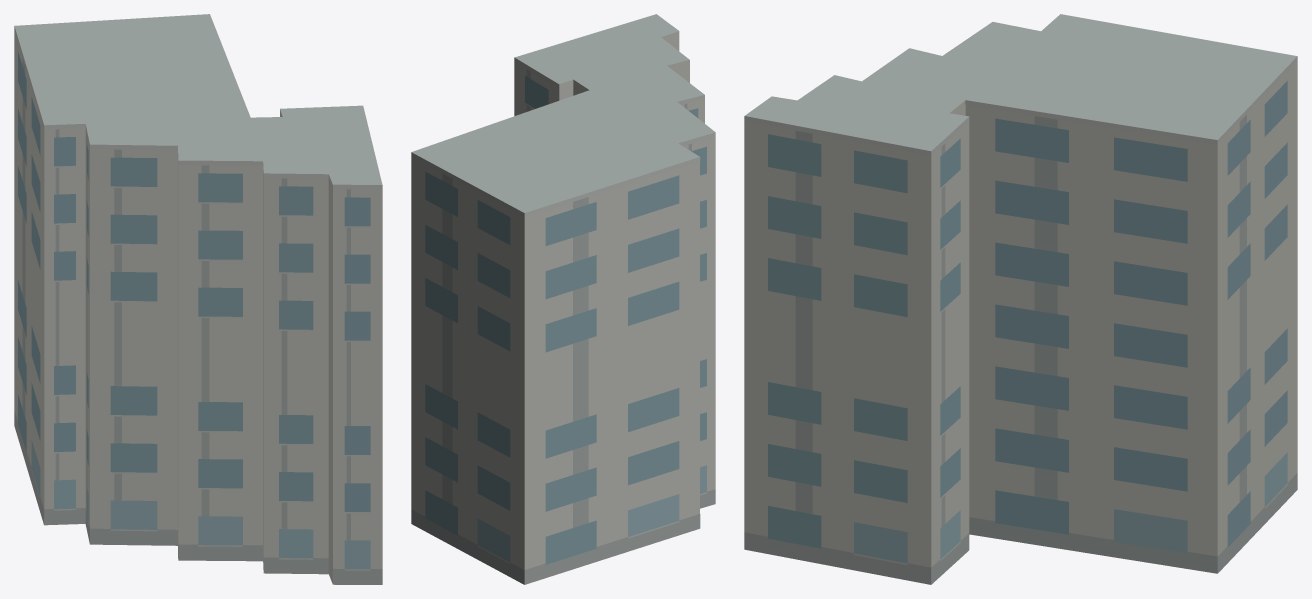
Rendered from survey-upis-32813669.glb.
3 renders of one model, left to right at view 1: azimuth 30°, elevation 25°; view 2: azimuth 150°, elevation 25°; view 3: azimuth 270°, elevation 25°, orthographic. The views are drawn at different scales.
Parts seen in each view (by area): view 1: survey-upis-32813669.tmp; view 2: survey-upis-32813669.tmp; view 3: survey-upis-32813669.tmp.
Part boxes in pixels (bbox=[...]): survey-upis-32813669.tmp: bbox=[14, 14, 382, 584]; survey-upis-32813669.tmp: bbox=[411, 14, 715, 584]; survey-upis-32813669.tmp: bbox=[744, 14, 1297, 584].
Size of the model in its own units: 14.5 by 21.35 by 24.69.
